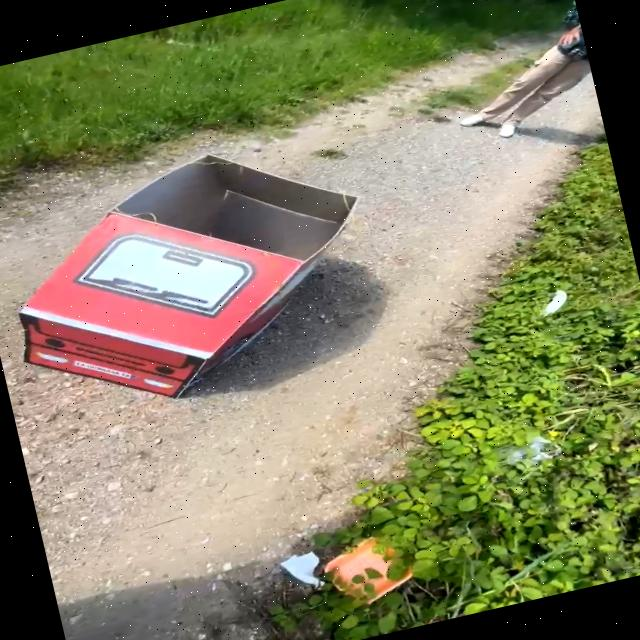red_car: (0, 96, 433, 449)
